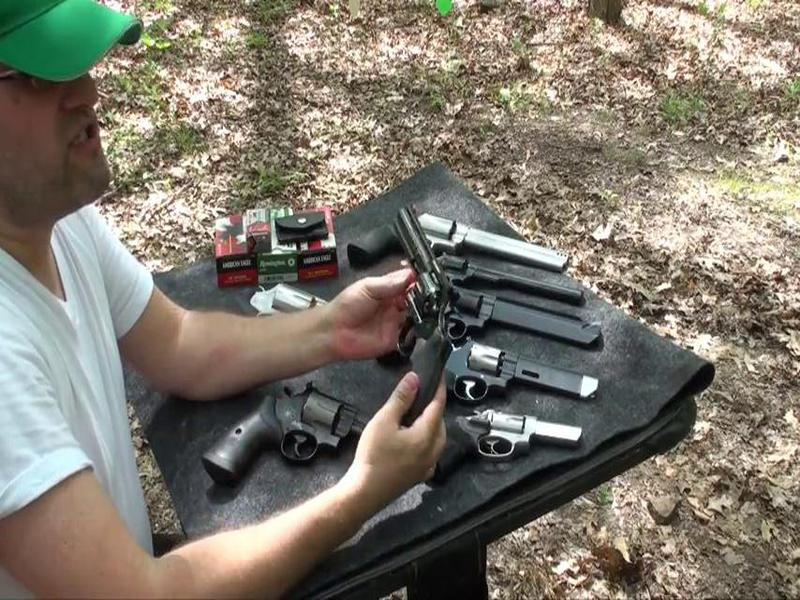Revolver: (354, 179, 487, 443)
